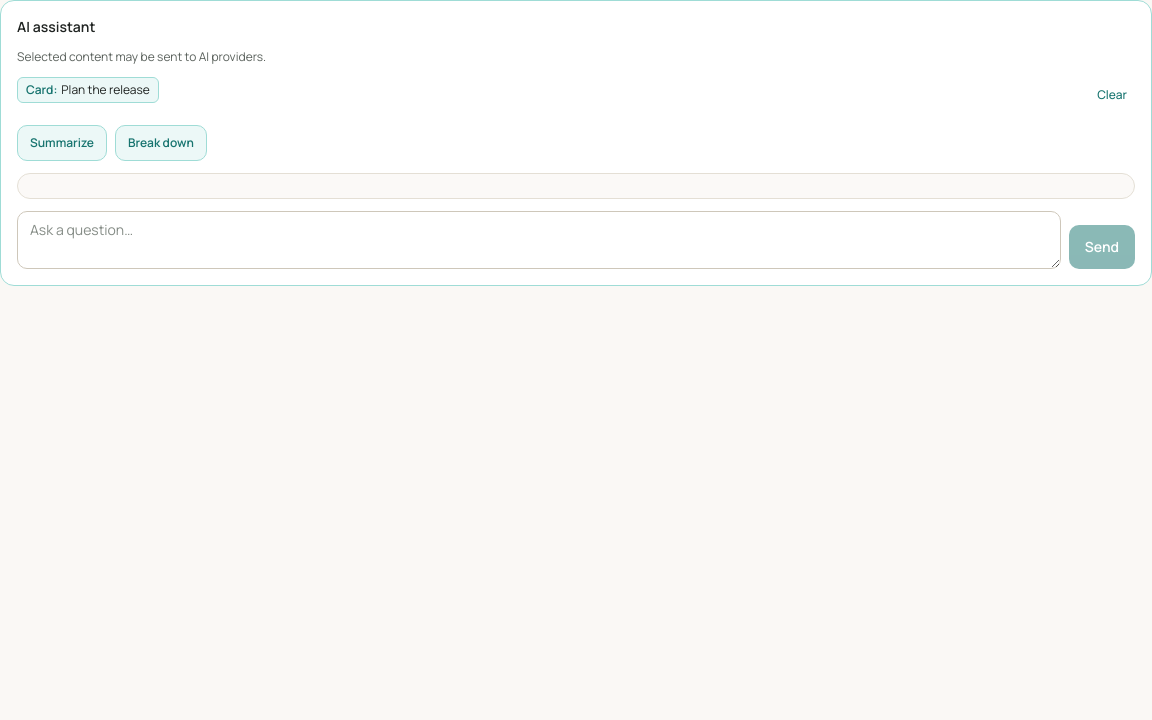
Test: AiPanel › TC-AI-02: keeps readable answers in the conversation and sends follow-up history
The image size is (1152, 720).
Type "How do I start?" into the text box labelled "Ask a question" at (539, 240), box [17, 211, 1061, 269]
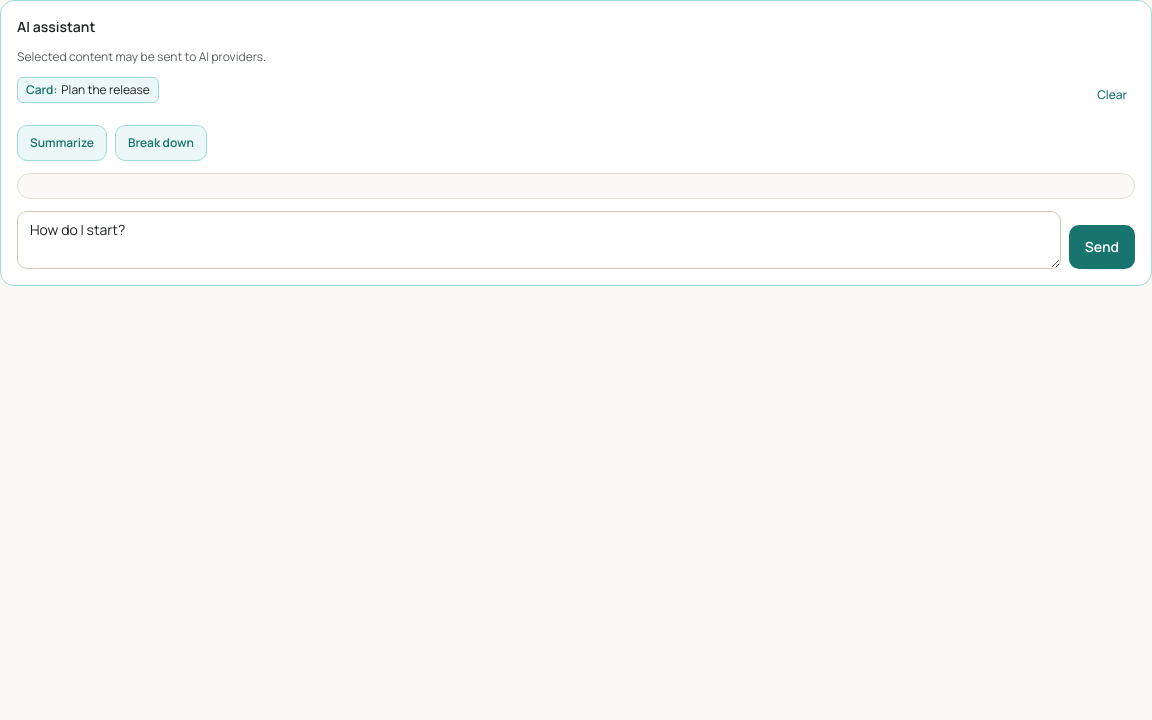
Click the button with aria-label "Ask AI" at (1102, 247), box [1069, 225, 1135, 269]
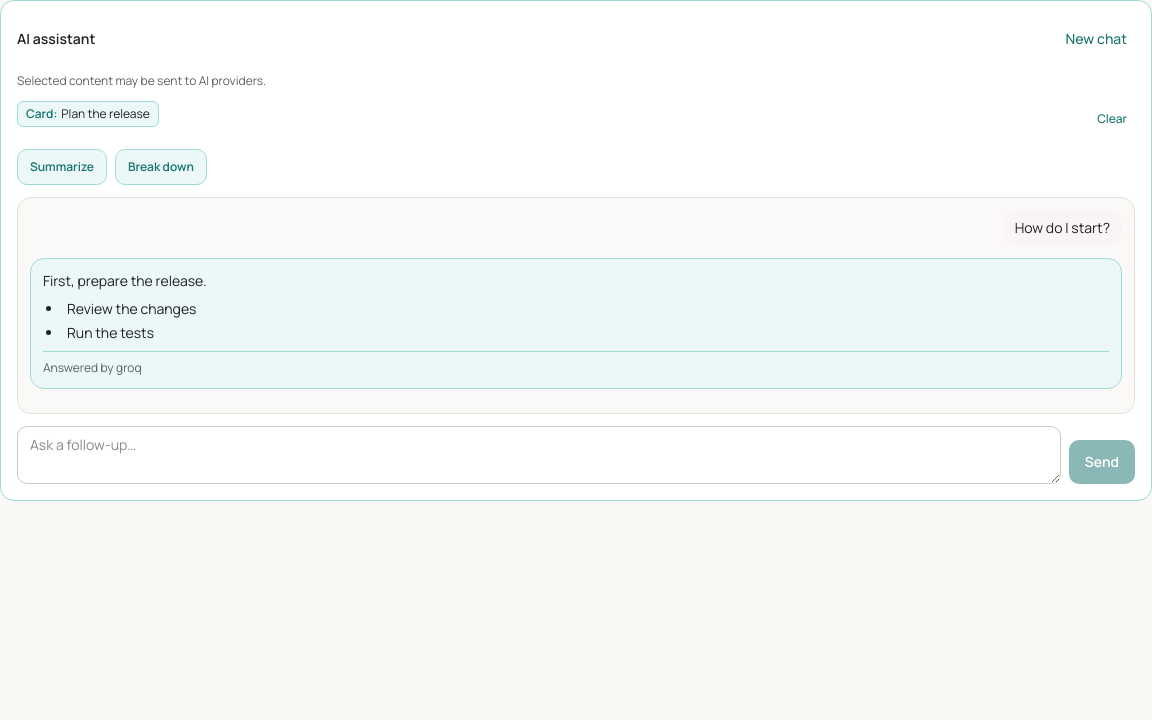
Check: the element named "AI answer" is shown, box [30, 258, 1122, 389]
Check: the list item "Review the changes" is shown, box [67, 299, 196, 318]
Check: the list item "Run the tests" is shown, box [67, 323, 154, 342]
Type "What should I review?" into the text box named "Ask a question" at (539, 455), box [17, 426, 1061, 484]
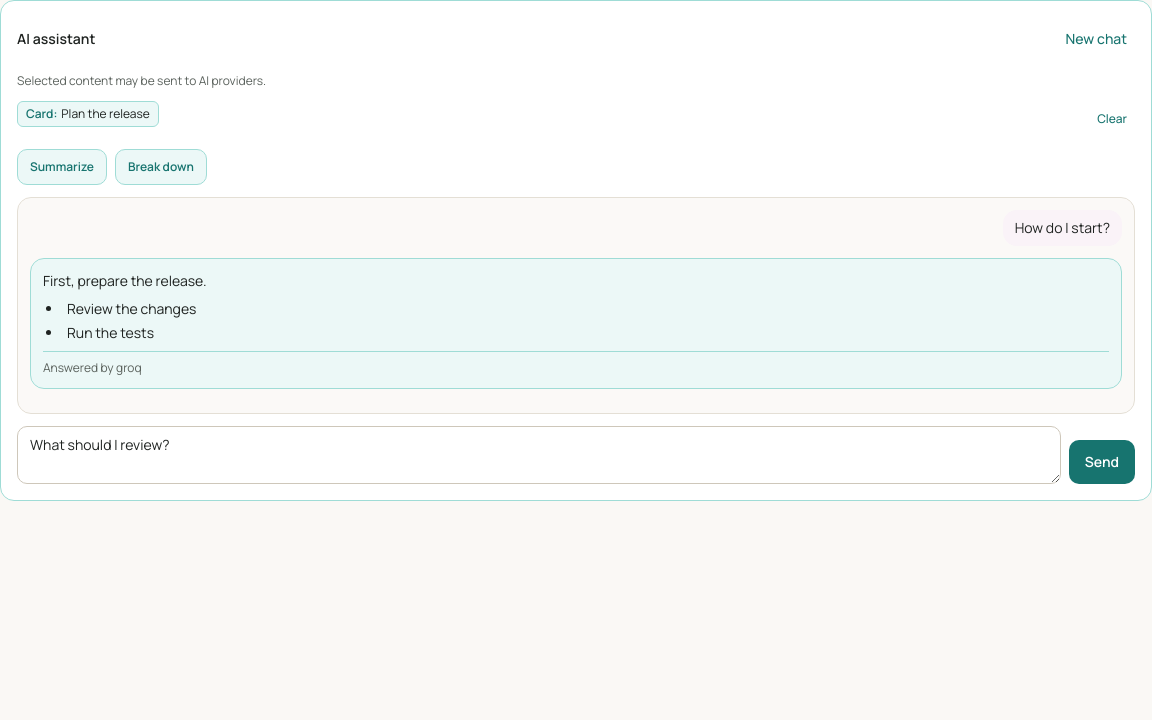
Check: the button with aria-label "Send follow-up" is enabled
Click the button with aria-label "Send follow-up" at (1102, 462), box [1069, 440, 1135, 484]
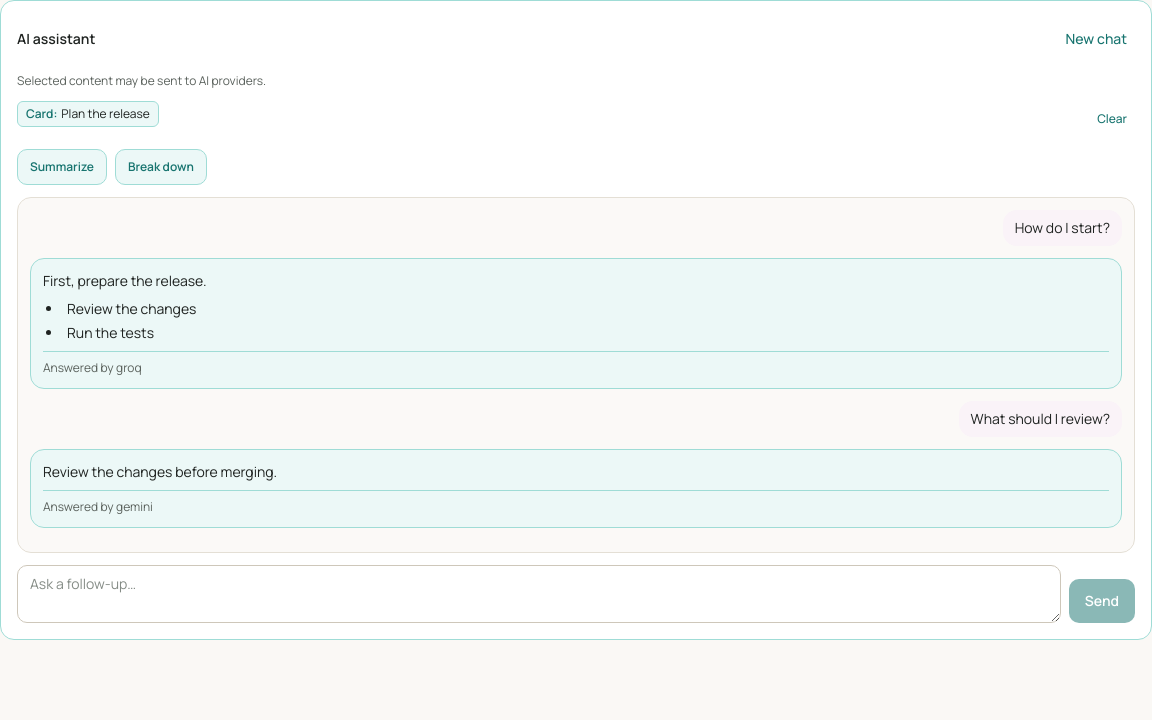
Check: the element named "AI conversation" shows "How do I start?", box [1015, 218, 1110, 237]
Check: the text "Review the changes before merging." is shown, box [43, 462, 277, 481]
Check: the element named "AI conversation" shows "What should I review?", box [970, 409, 1110, 428]
